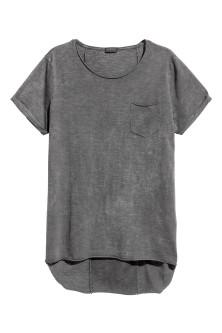teeshirt: (4, 33, 219, 297)
